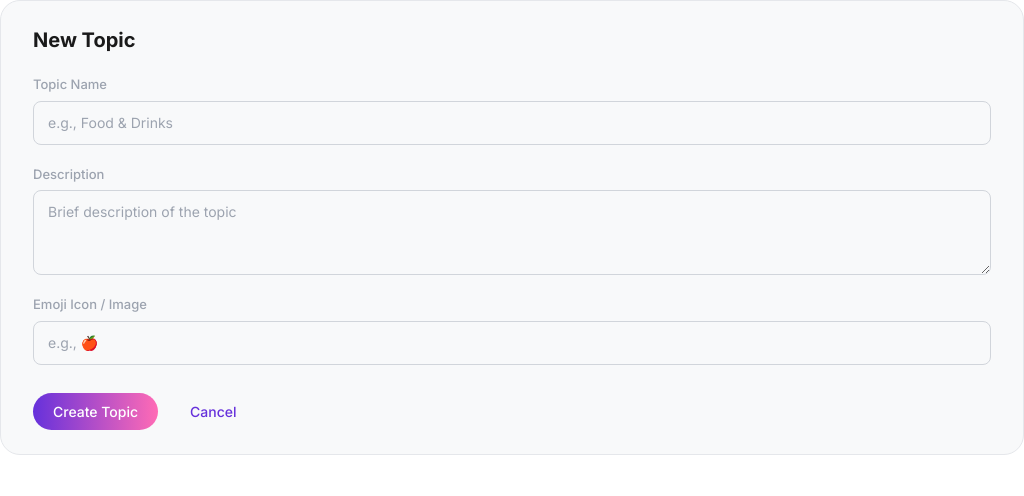
Test: AdminTopicForm › typing clears the name error
Click the button "Create Topic" at (96, 411), box [33,392,158,430]
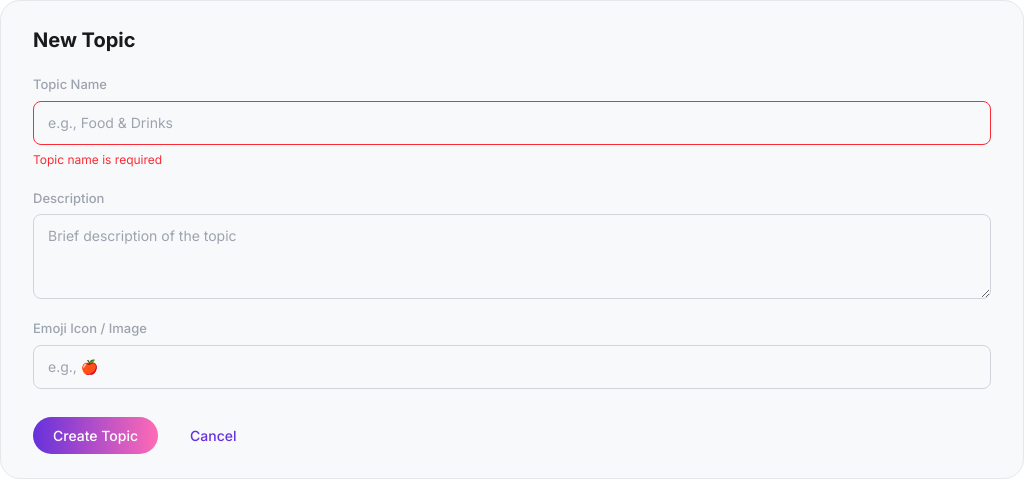
Result: the text "Topic name is required" is shown at [33,152,162,166]
Type "X" into the field labelled "Topic Name" at (512, 122), box [33,100,991,144]
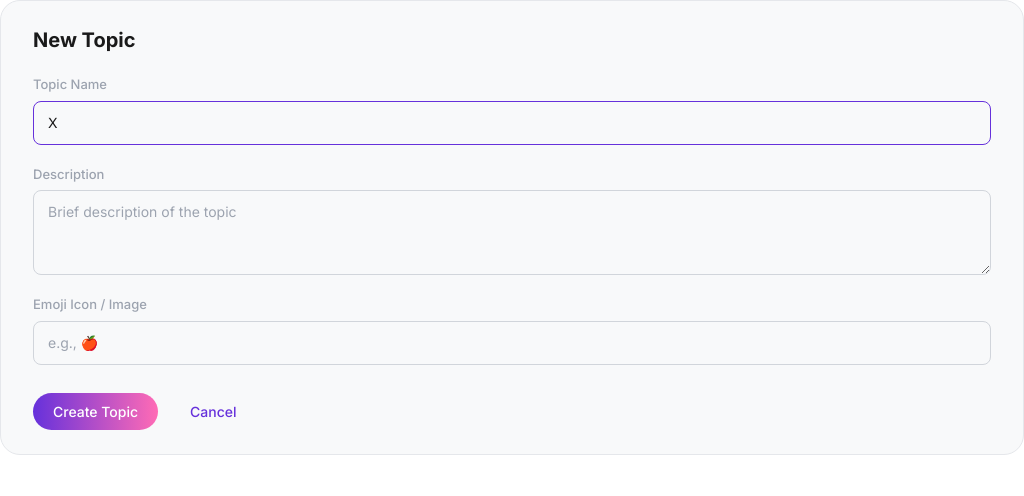
Result: the text "Topic name is required" is gone
